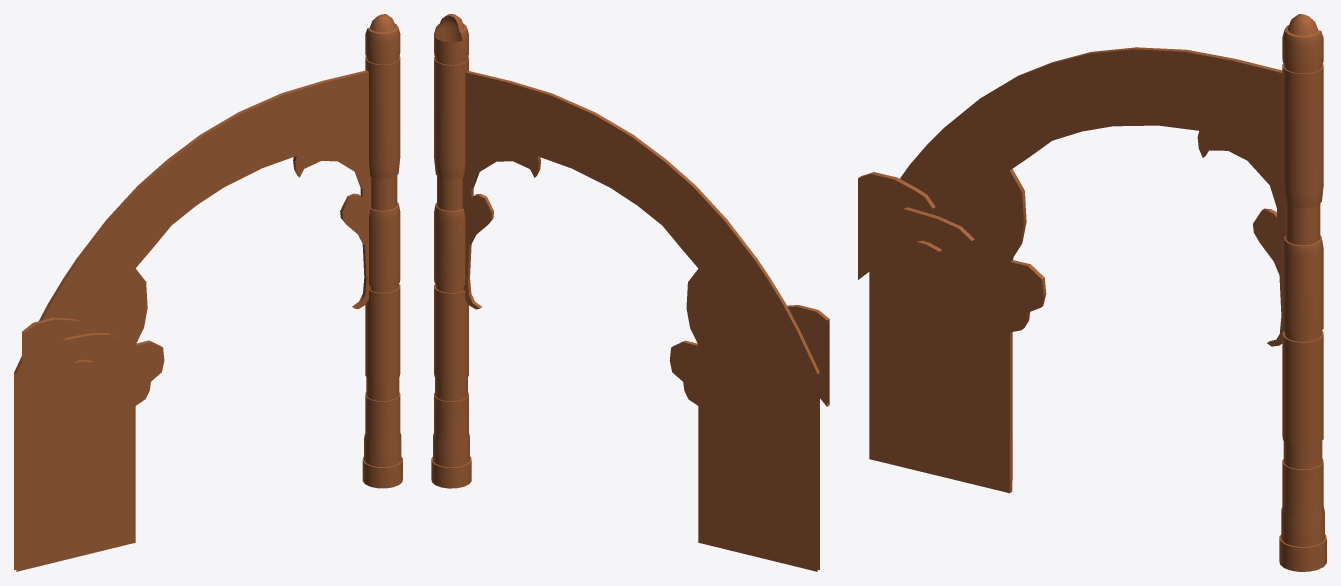
Rendered from Archway.fbx.
3 views of the same model, side by side, from view 1: azimuth 30°, elevation 25°; view 2: azimuth 150°, elevation 25°; view 3: azimuth 330°, elevation 25° (orthographic). The views are drawn at different scales.
Parts seen in each view (by area): view 1: Archway; view 2: Archway; view 3: Archway.
Boxes of the visible parts, x1,y1,x2,y2 form: Archway: [14, 14, 402, 571]; Archway: [431, 14, 829, 571]; Archway: [858, 14, 1326, 571].
Size of the model in its own units: 269 by 311 by 24.61.
